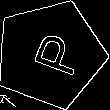P_W: (19, 28, 82, 80)
